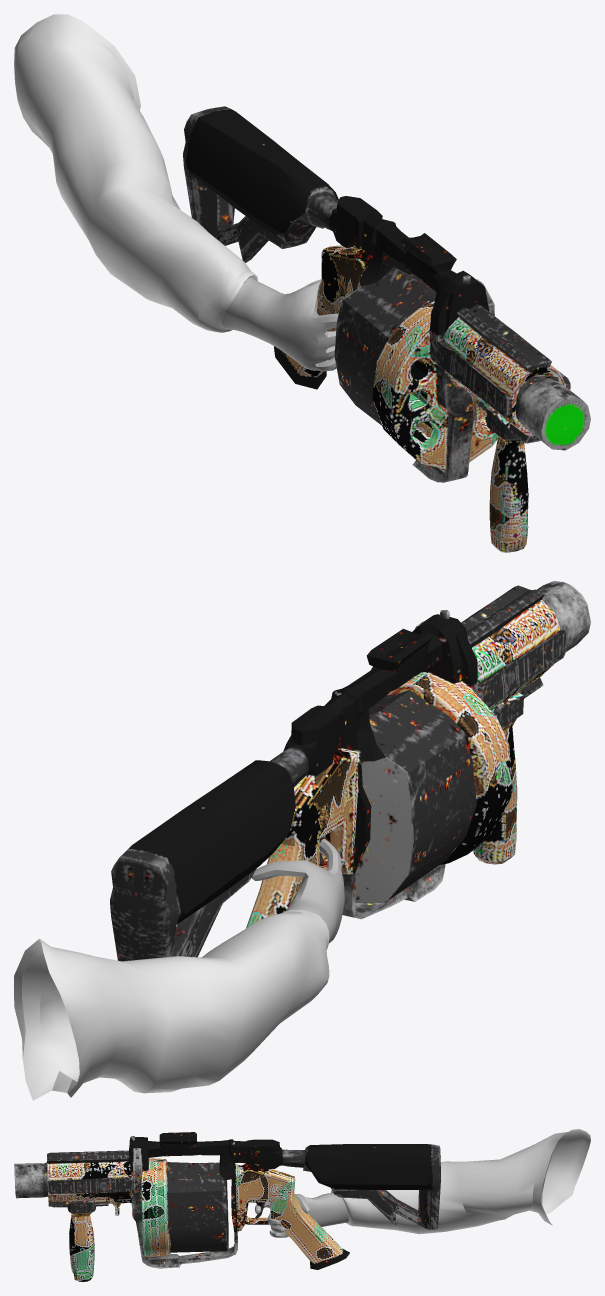
The model's file is ArmsAndGuns6 1.fbx.
3 renders of one model, top to bottom at view 1: azimuth 30°, elevation 25°; view 2: azimuth 150°, elevation 25°; view 3: azimuth 270°, elevation 25°, orthographic. The views are drawn at different scales.
Visible parts, largest first — view 1: polySurface1.007; view 2: polySurface1.007; view 3: polySurface1.007.
Boxes of the visible parts, x1,y1,x2,y2 form: polySurface1.007: [14, 14, 590, 552]; polySurface1.007: [14, 581, 590, 1100]; polySurface1.007: [14, 1129, 590, 1281].
Size of the model in its own units: 4222 by 5771 by 20940.
